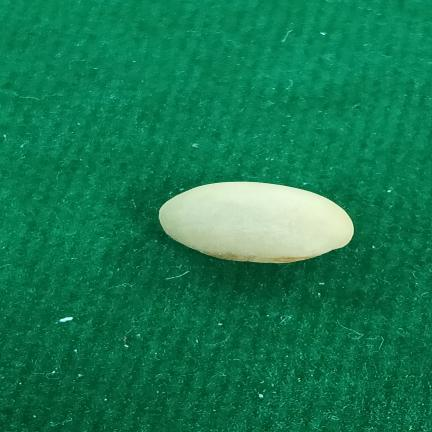parchment: (159, 182, 354, 263)
